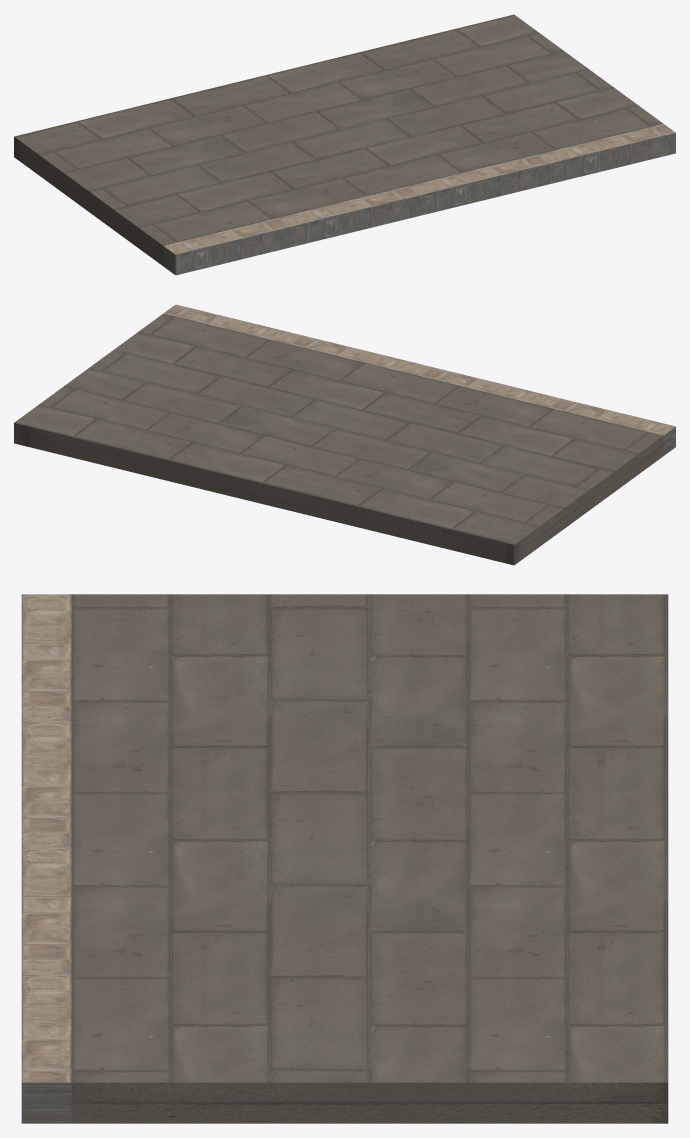
The model's file is SidewalkR.fbx.
The picture shows the model from 3 angles, top to bottom: view 1: azimuth 30°, elevation 25°; view 2: azimuth 150°, elevation 25°; view 3: azimuth 270°, elevation 25°; orthographic projection. The views are drawn at different scales.
Visible parts, largest first — view 1: Cube; view 2: Cube; view 3: Cube.
Boxes of the visible parts, <box> form: Cube: <box>14,14,675,275</box>; Cube: <box>14,304,675,565</box>; Cube: <box>21,594,668,1123</box>.
Size of the model in its own units: 357 by 14.06 by 200.
Materials: 2 (2 with a texture image).
